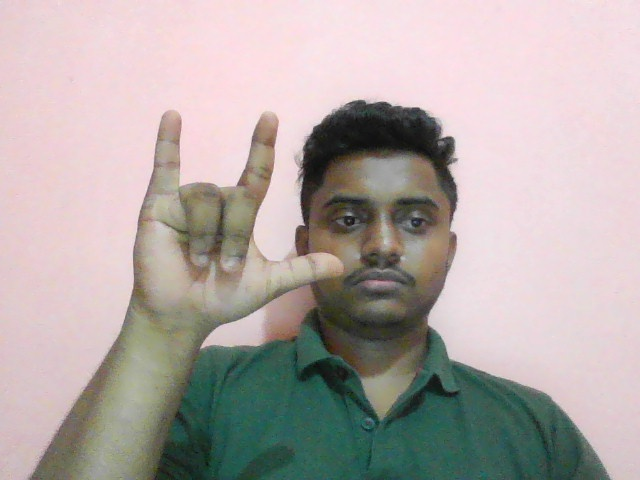I Love You: (117, 105, 348, 345)
